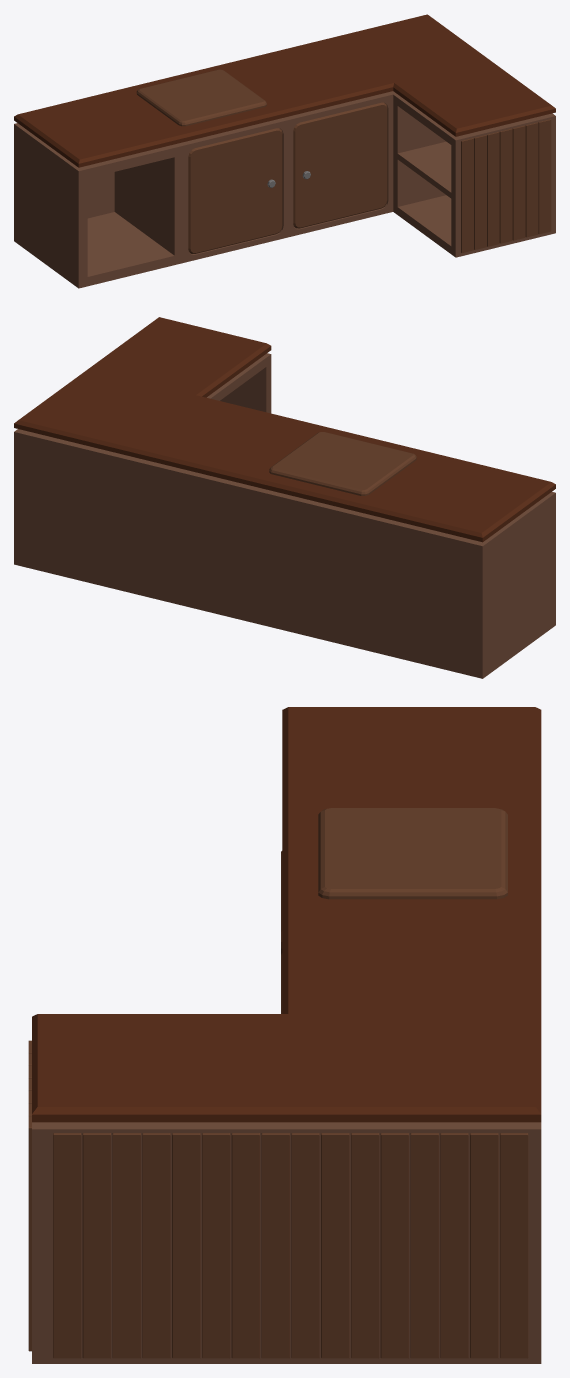
File: Counter.fbx
3 renders of one model, top to bottom at view 1: azimuth 30°, elevation 25°; view 2: azimuth 150°, elevation 25°; view 3: azimuth 270°, elevation 25°, orthographic. The views are drawn at different scales.
Visible parts, largest first — view 1: Counter; view 2: Counter; view 3: Counter.
Boxes of the visible parts, left/top/right/bottom form: Counter: left=14, top=14, right=555, bottom=288; Counter: left=14, top=317, right=555, bottom=678; Counter: left=28, top=707, right=541, bottom=1363.
Size of the model in its own units: 327 by 98.43 by 174.
